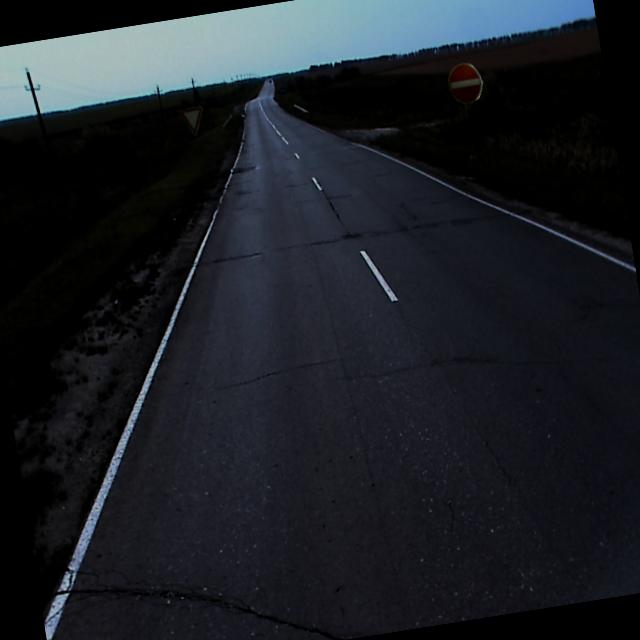road: (42, 79, 640, 640)
